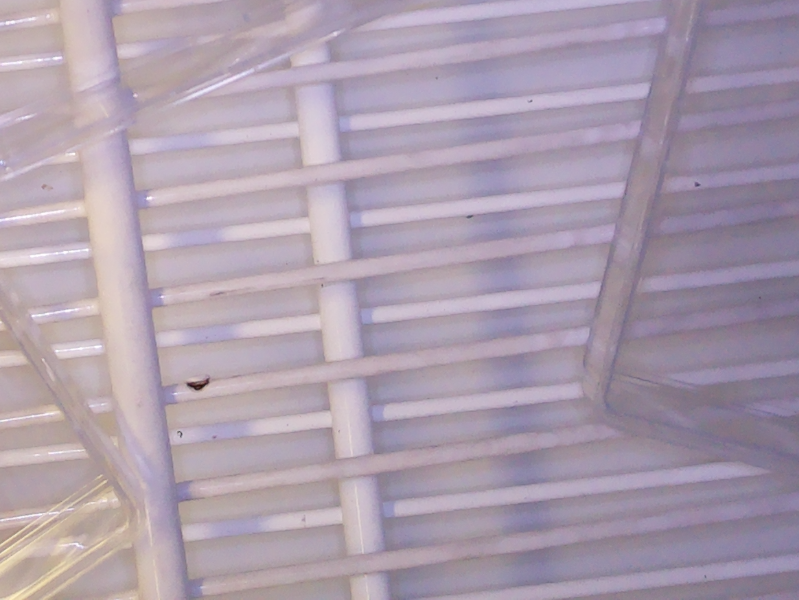plate: (580, 1, 799, 474), (1, 1, 407, 177), (1, 277, 150, 600)
